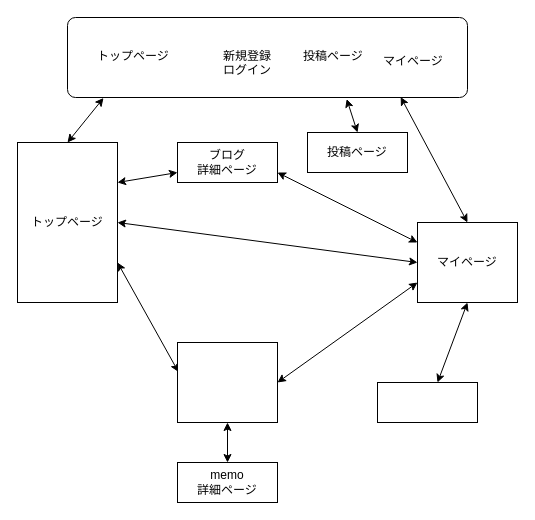
Image size: 535x520. Some labels were removed from this diagram. The shapes that lost their labels are listed below. From the top down, each one's centre as x and y in pixels, then its label:
At point (227, 382): "お気に入り詳細 メモ投稿、一覧 ページ".
At point (427, 402): "投稿一覧ページ".
